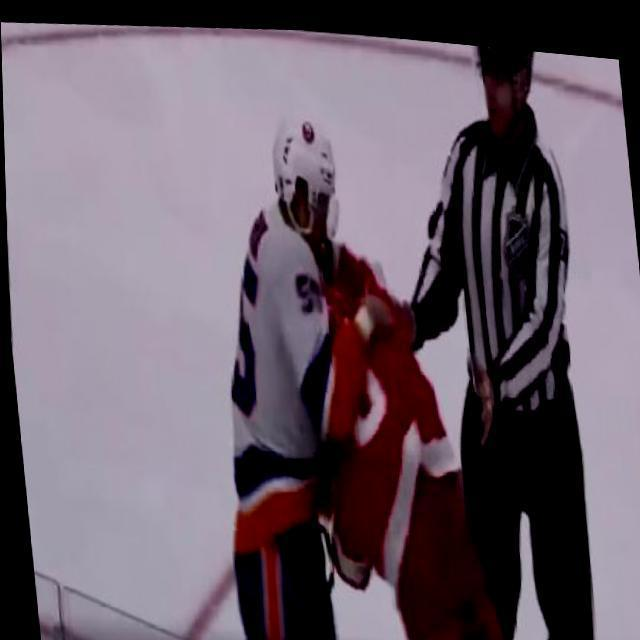fight: (182, 79, 532, 640)
